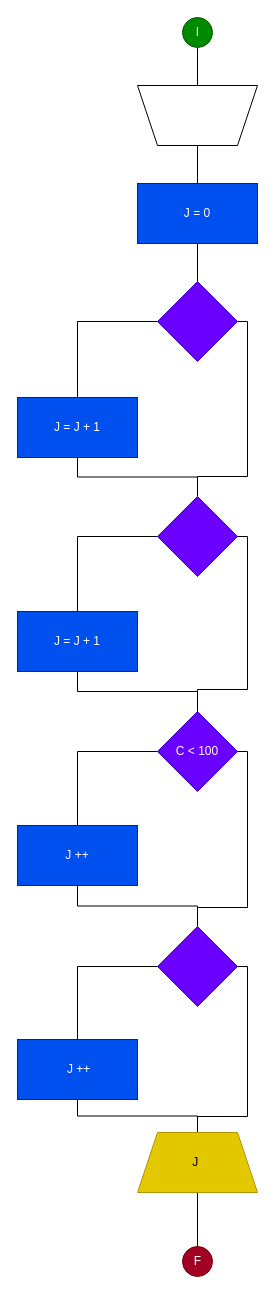
Image size: 275x1294. Some labels were removed from this diagram. The shapes that lost their labels are listed below. From the top down, each one's centre as x and y in pixels, then its label:
At point (197, 115): "A , B , C , D".
At point (197, 321): "A < 100".
At point (197, 536): "B < 100".
At point (197, 966): "D < 100".
